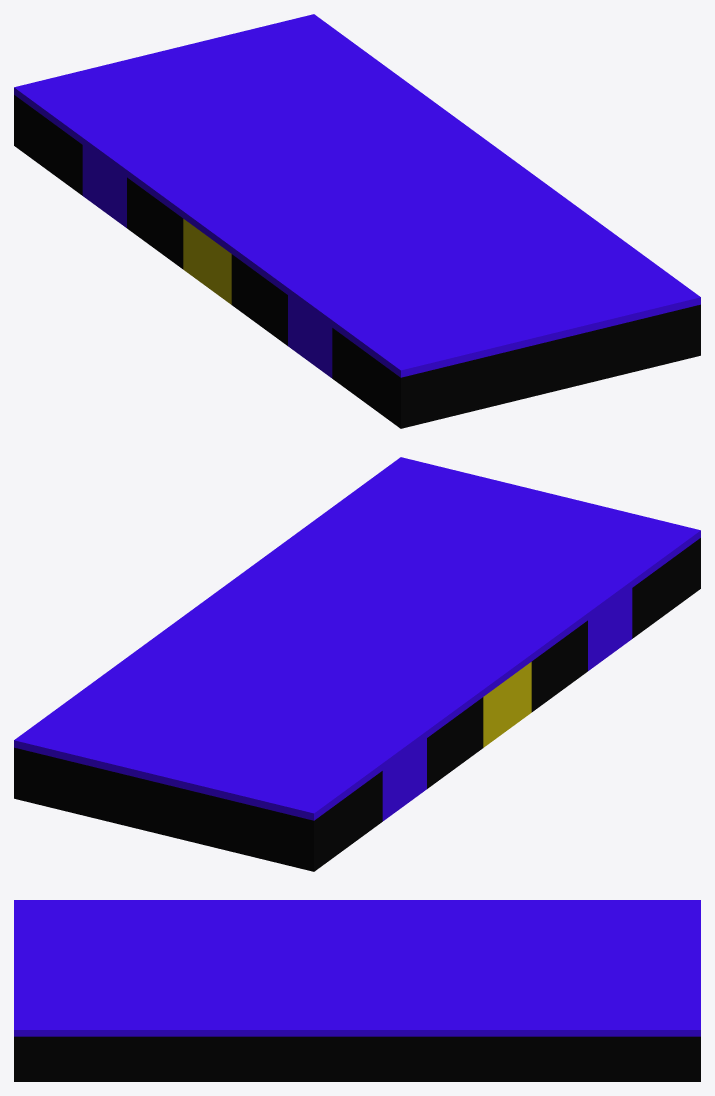
The model's file is noobGirl-5.obj.
3 views of the same model, one above another, from view 1: azimuth 30°, elevation 25°; view 2: azimuth 150°, elevation 25°; view 3: azimuth 270°, elevation 25° (orthographic). The views are drawn at different scales.
Bounding box in the file's own units: 4.3 × 0.8 × 9.6.
Materials: 1 (1 with a texture image).
